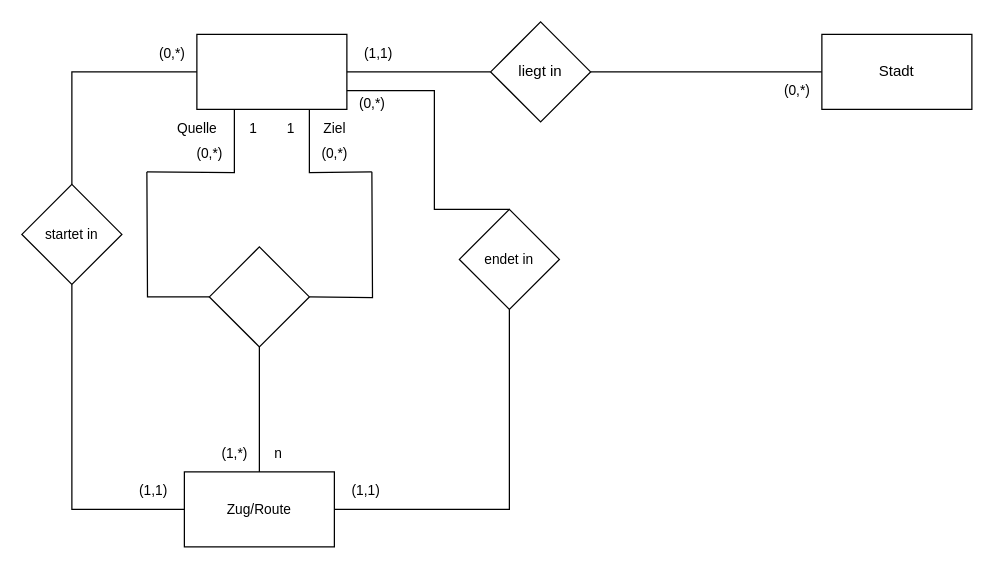
This 994x569 diagram has some shape labels left out. Each missing label, with the box of its shape:
Bahnhof: (196, 33, 347, 109)
verbindet: (208, 246, 309, 347)
